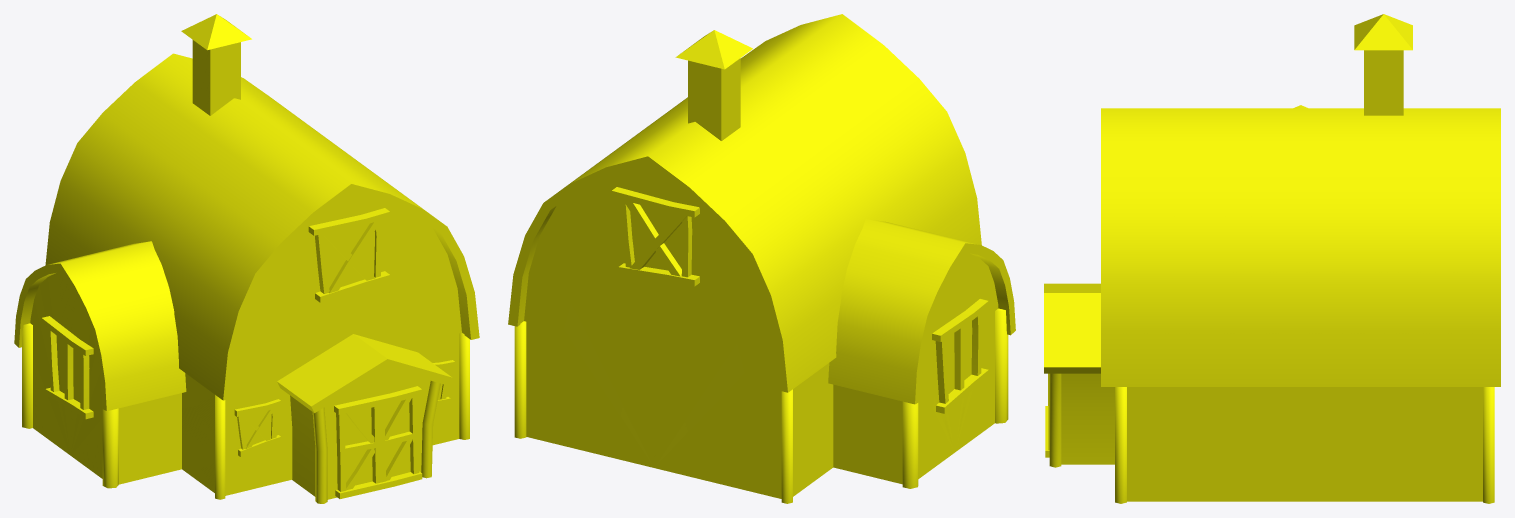
3 renders of one model, left to right at view 1: azimuth 30°, elevation 25°; view 2: azimuth 150°, elevation 25°; view 3: azimuth 270°, elevation 25°, orthographic. The views are drawn at different scales.
Visible parts, largest first — view 1: Barn; view 2: Barn; view 3: Barn.
Part boxes in pixels (x1=…): Barn: x1=14, y1=14, x2=479, y2=503; Barn: x1=508, y1=14, x2=1015, y2=503; Barn: x1=1044, y1=14, x2=1500, y2=503.
Size of what is drawn, in the model's own units: 2.78 by 2.98 by 2.97.
1 material, 1 textured.
